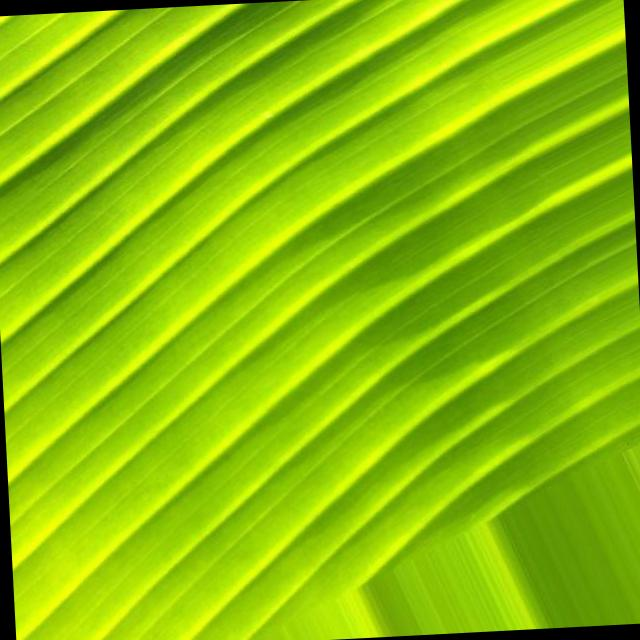Banana_Healthy: (3, 21, 640, 631)
